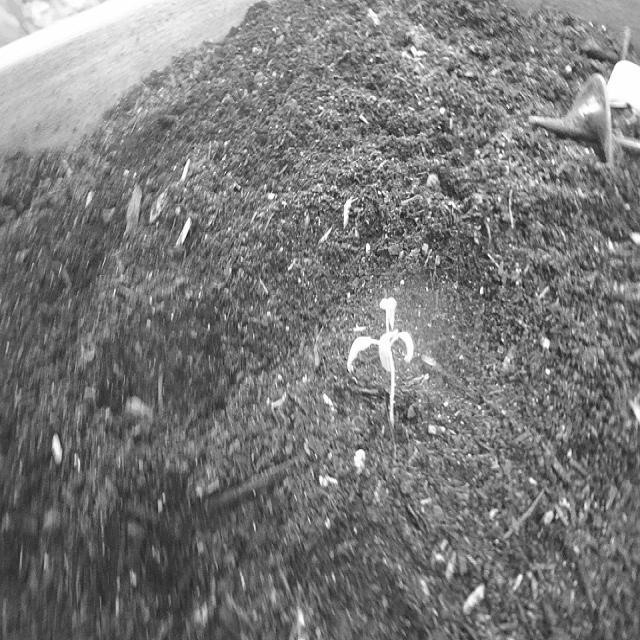Healthy: (345, 293, 417, 437)
